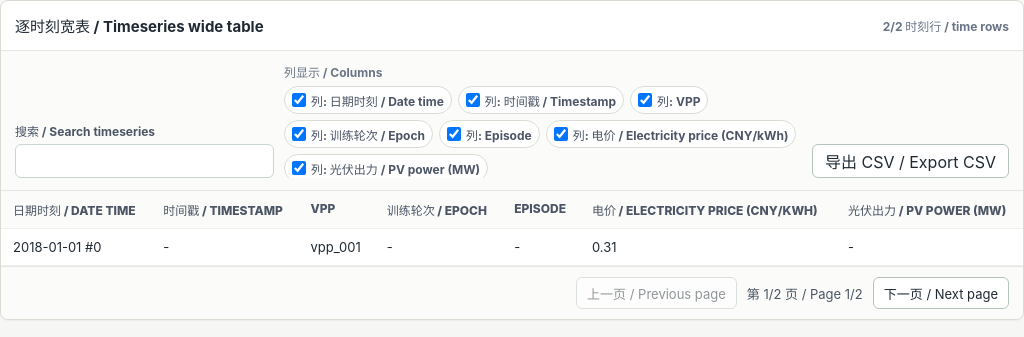
DatasetTimeseriesTable › paginates timeseries rows instead of silently truncating them
The image size is (1024, 337).
Expected: the text "2018-01-01 #0" is shown, [1, 228, 151, 266]
Expected: the text "2018-01-01 #1" is not shown
Click the button "下一页 / Next page": {"x": 941, "y": 293} [873, 277, 1009, 309]
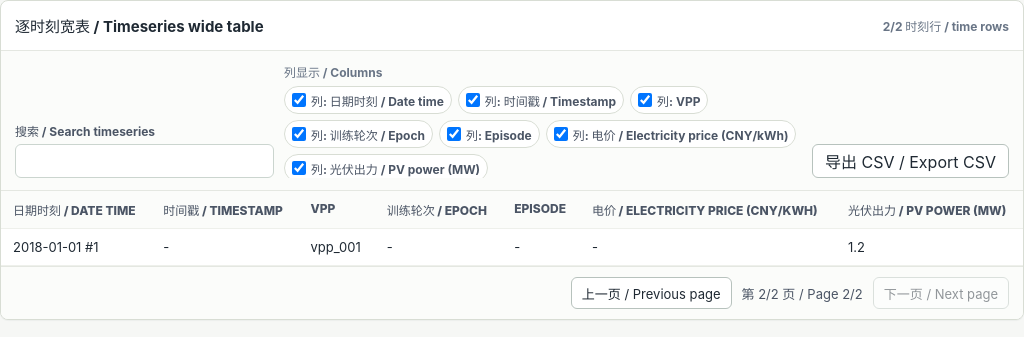
Expected: the text "2018-01-01 #0" is gone
Expected: the text "2018-01-01 #1" is shown, [1, 228, 151, 266]
